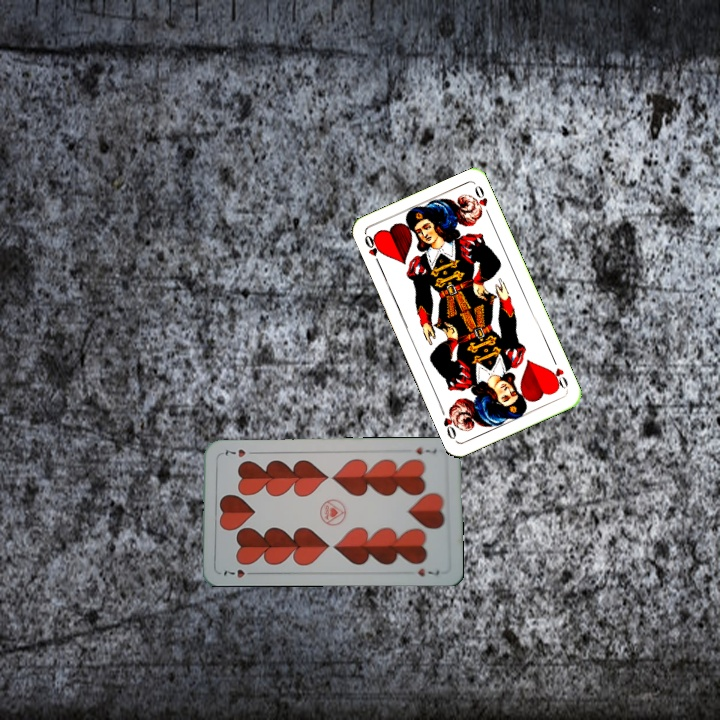H7: (220, 565, 258, 580), (412, 443, 439, 457)
HO: (546, 354, 571, 392), (360, 231, 384, 269)
